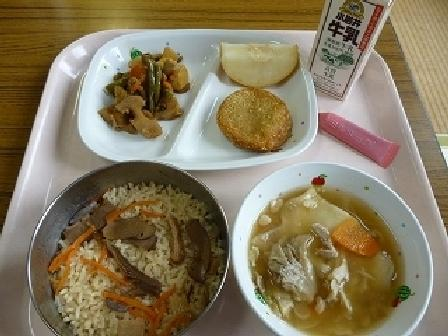Mixed rice: (32, 160, 234, 331)
Soups: (227, 169, 432, 332)
cooked food meat with vegetables: (109, 45, 195, 133)
cutlet: (217, 84, 295, 156)
pear: (216, 32, 300, 88)
